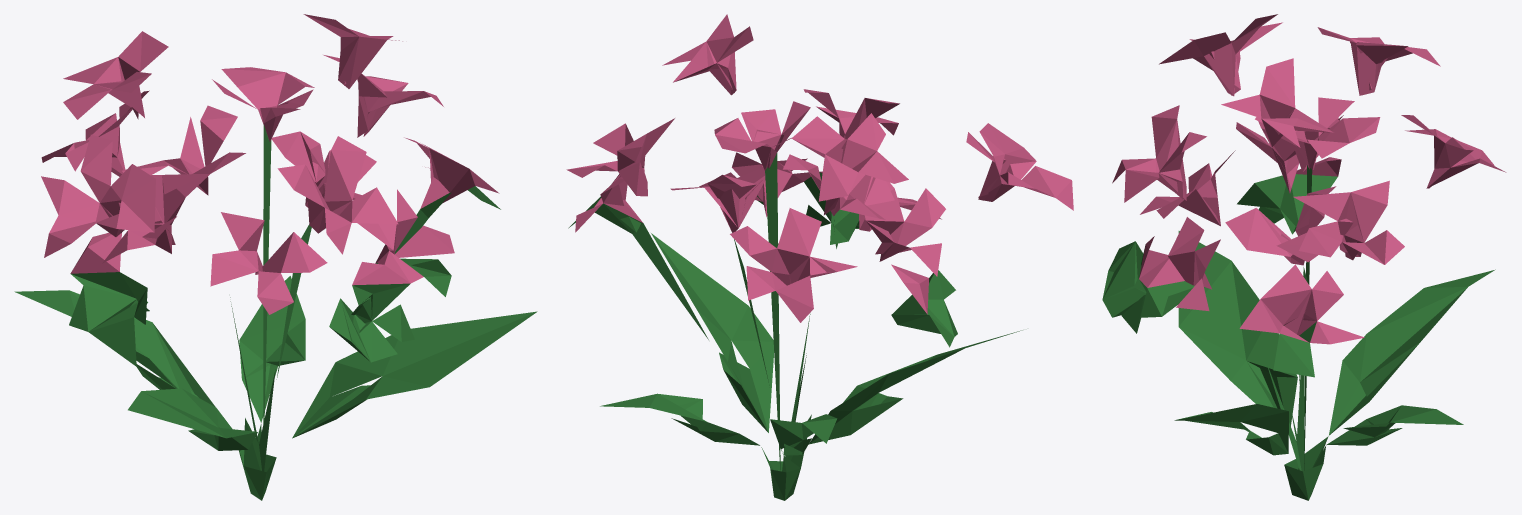
The model's file is flower-3.glb.
3 views of the same model, side by side, from view 1: azimuth 30°, elevation 25°; view 2: azimuth 150°, elevation 25°; view 3: azimuth 270°, elevation 25° (orthographic). The views are drawn at different scales.
Parts seen in each view (by area): view 1: output_unwrapped; view 2: output_unwrapped; view 3: output_unwrapped.
Part boxes in pixels (x1,y1,x2,y2): output_unwrapped: (14,14,537,500); output_unwrapped: (566,14,1073,500); output_unwrapped: (1102,14,1506,500).
Bounding box in the file's own units: 0.6 × 0.5577 × 0.4483.
